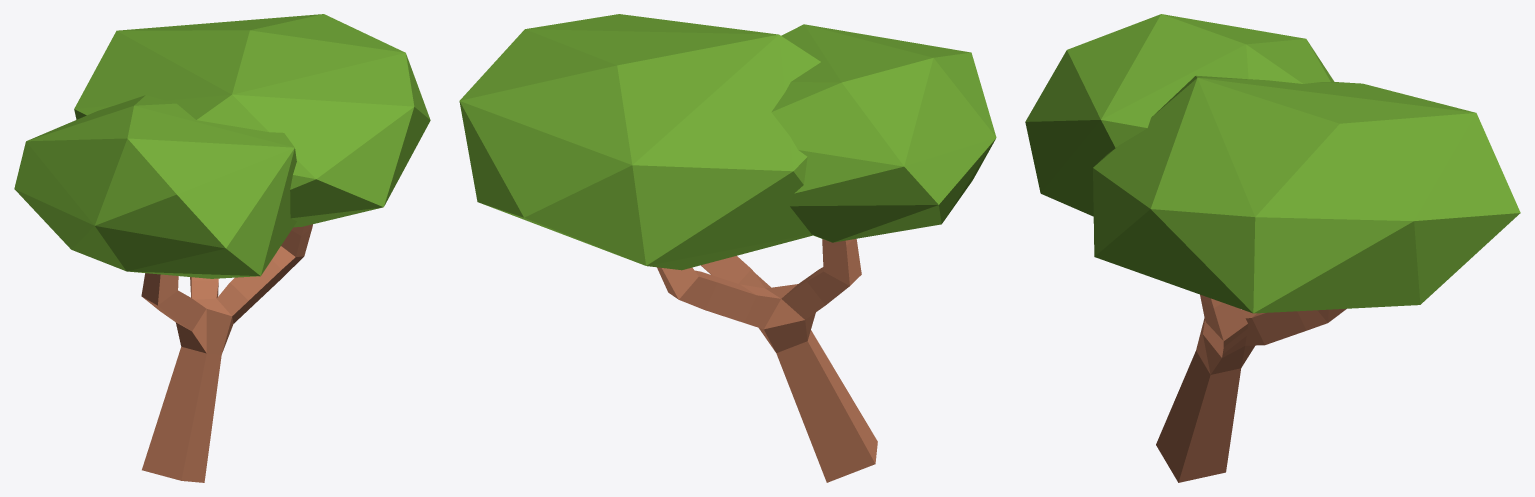
The model's file is oak 2.gltf.
The picture shows the model from 3 angles, left to right: view 1: azimuth 30°, elevation 25°; view 2: azimuth 150°, elevation 25°; view 3: azimuth 270°, elevation 25°; orthographic projection. The views are drawn at different scales.
Parts seen in each view (by area): view 1: Icosphere.010, Icosphere.009, tree.005; view 2: Icosphere.010, Icosphere.009, tree.005; view 3: Icosphere.010, Icosphere.009, tree.005.
Part boxes in pixels (x1,y1,x2,y2): Icosphere.010: (74, 14, 430, 227); Icosphere.009: (14, 95, 296, 278); tree.005: (141, 224, 312, 482); Icosphere.010: (459, 14, 820, 270); Icosphere.009: (771, 24, 996, 242); tree.005: (657, 239, 877, 482); Icosphere.010: (1093, 75, 1520, 313); Icosphere.009: (1025, 14, 1334, 216); tree.005: (1156, 294, 1346, 482).
Bounding box in the file's own units: 8.58 × 7.6 × 8.03.
Materials: 1 (1 with a texture image).
